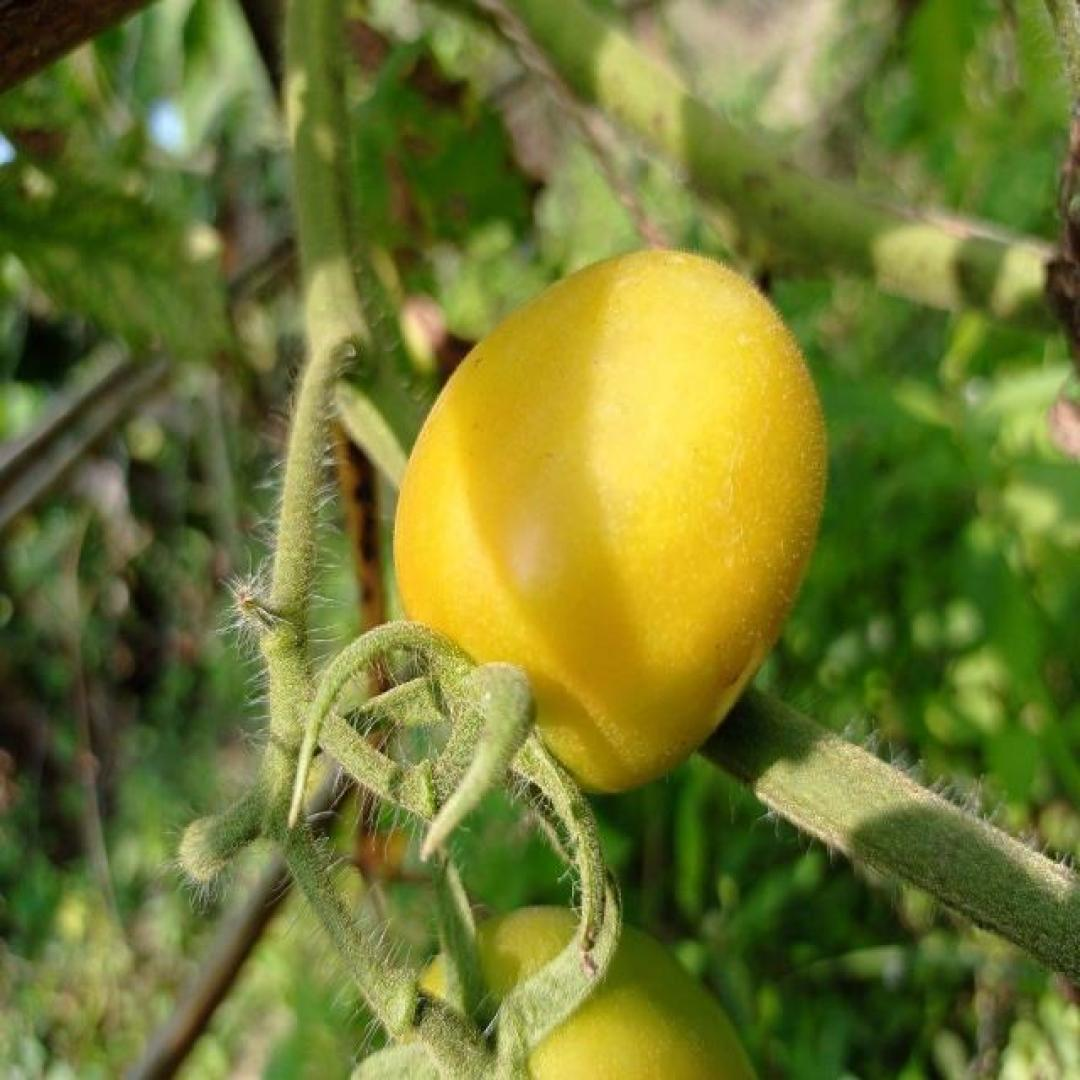setengah_matang: (390, 245, 832, 798)
